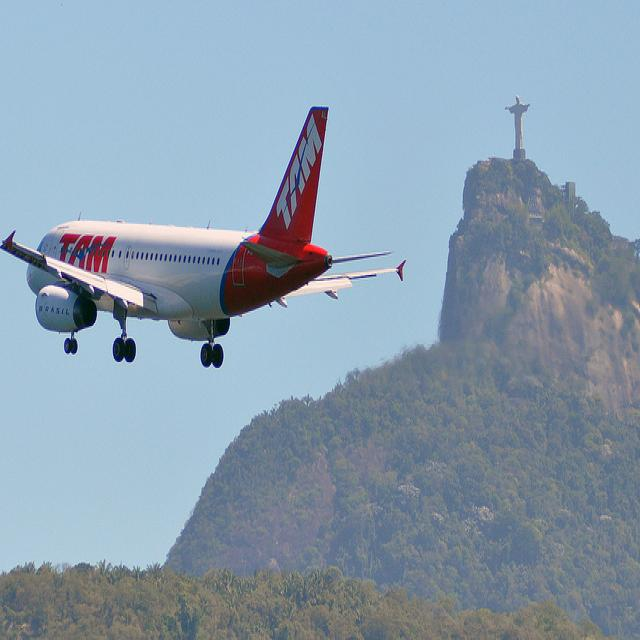airplane: (0, 103, 407, 370)
